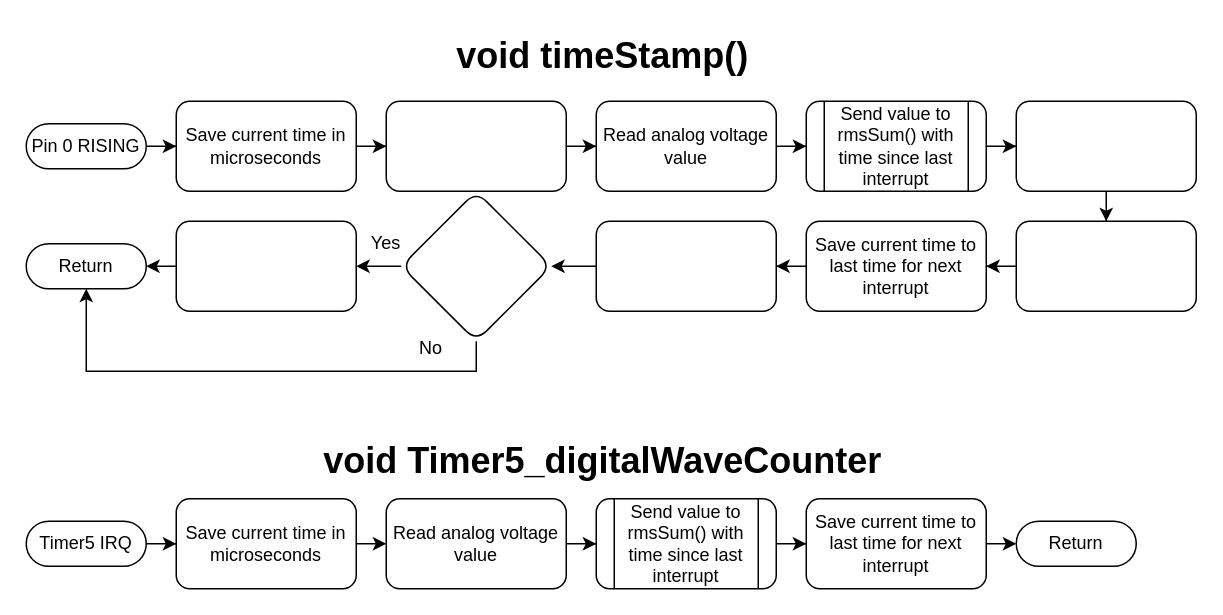
The diagram is 1223 pixels wide and 615 high, and some of its shapes have lost their labels. The centre of each missing label's shape, as x and y in pixels:
"Array index = array length?" goes at point (475, 265).
"Flush sum of squares and period time for full period" goes at point (1105, 145).
"Increment timeArray index" goes at point (685, 265).
"Reset sqaure sum variable for next period" goes at point (1105, 265).
"Save time since last interrupt in timeArray at current index" goes at point (475, 145).
"Set array index to zero" goes at point (265, 265).
